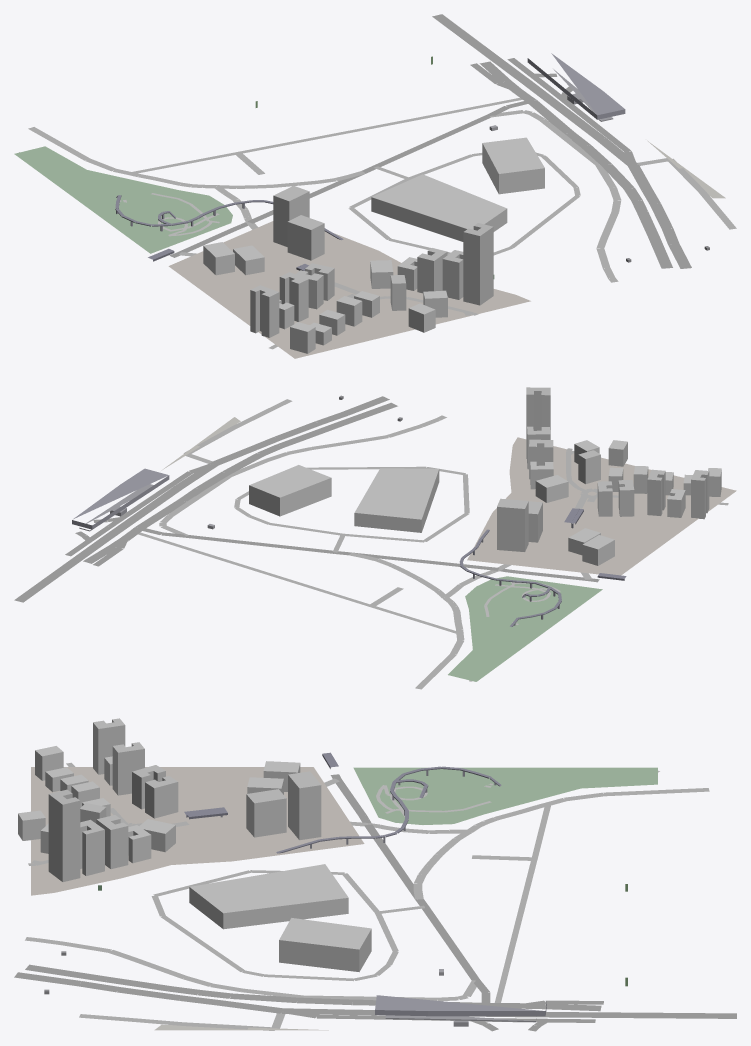
3 views of the same model, one above another, from view 1: azimuth 30°, elevation 25°; view 2: azimuth 150°, elevation 25°; view 3: azimuth 270°, elevation 25° (orthographic). The views are drawn at different scales.
Size of the model in its own units: 515 by 70.13 by 576.
